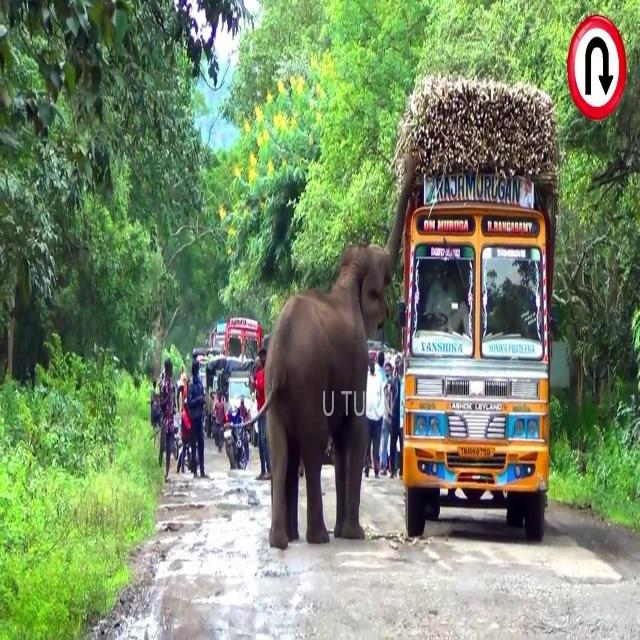Elephant: (245, 155, 417, 551)
